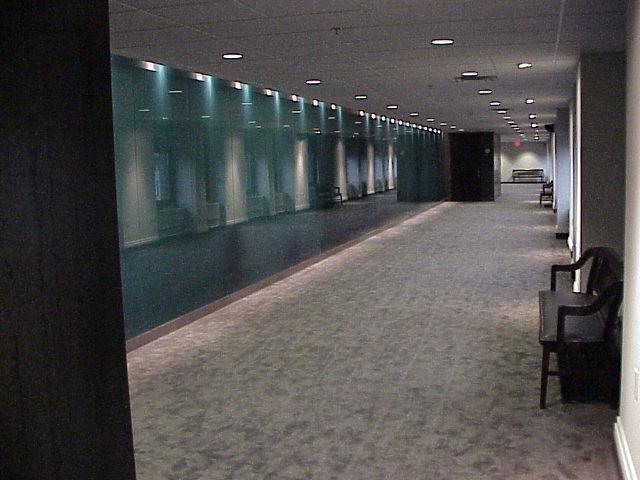Ventana: (121, 72, 191, 354), (237, 86, 296, 279), (194, 75, 236, 306), (300, 91, 345, 256), (345, 114, 384, 233)
